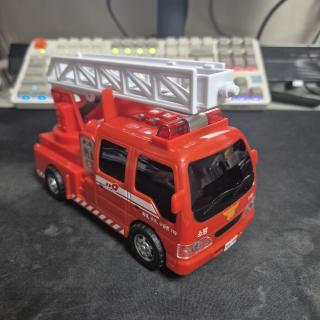Fire_truck: (34, 54, 258, 275)
